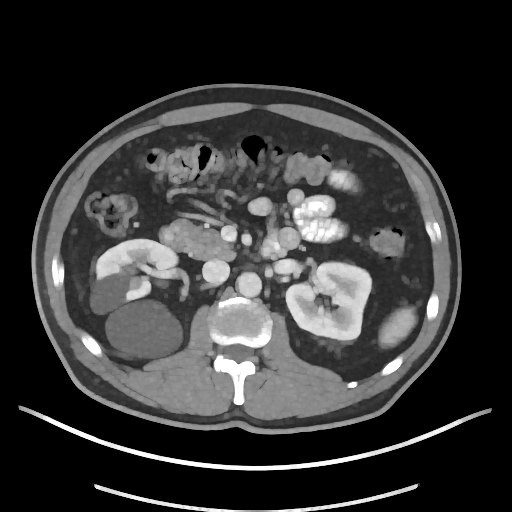Lesion: (102, 294, 188, 363)
